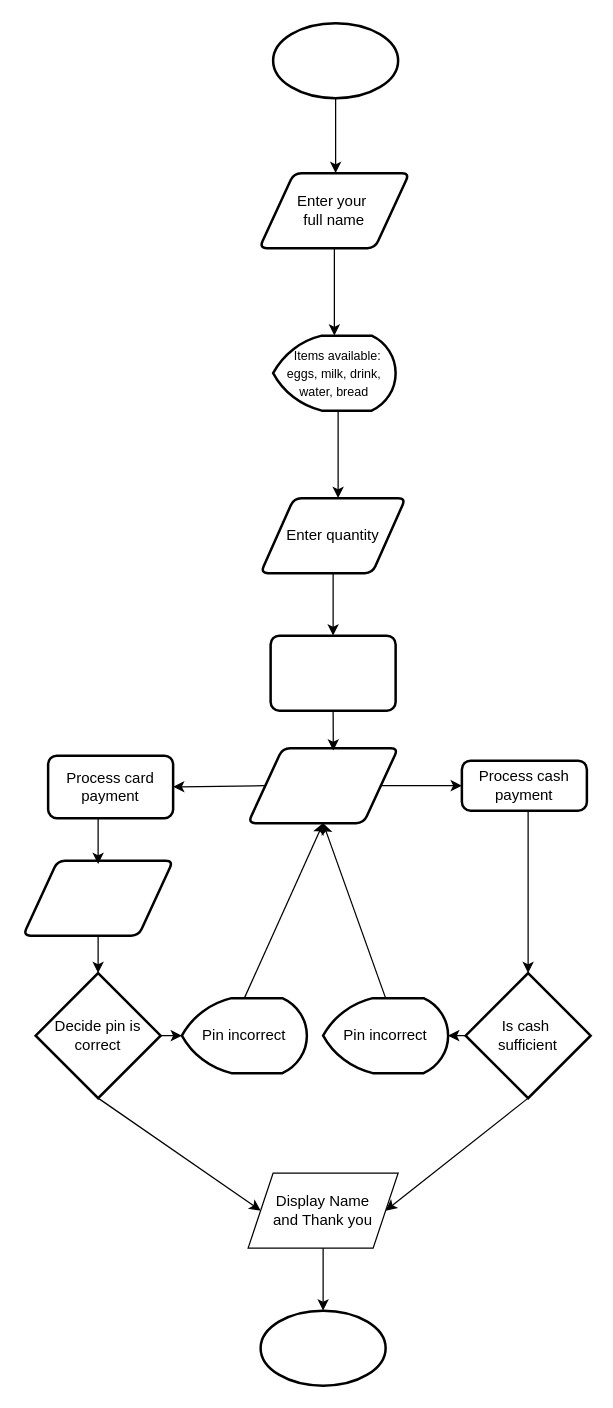
Image size: 613x1408. Some labels were removed from this diagram. The shapes that lost their labels are listed below. From the top down, each one's centre as x and y in pixels, then its label:
At pixel 335 60: "START".
At pixel 332 672: "Calculate total amount".
At pixel 322 785: "Select payment method".
At pixel 97 897: "Input pin".
At pixel 322 1347: "END".
